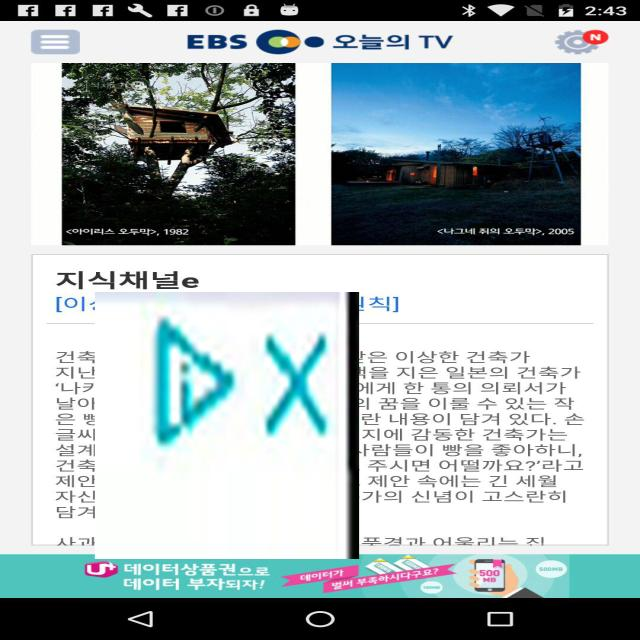sneaking: (95, 292, 359, 559)
